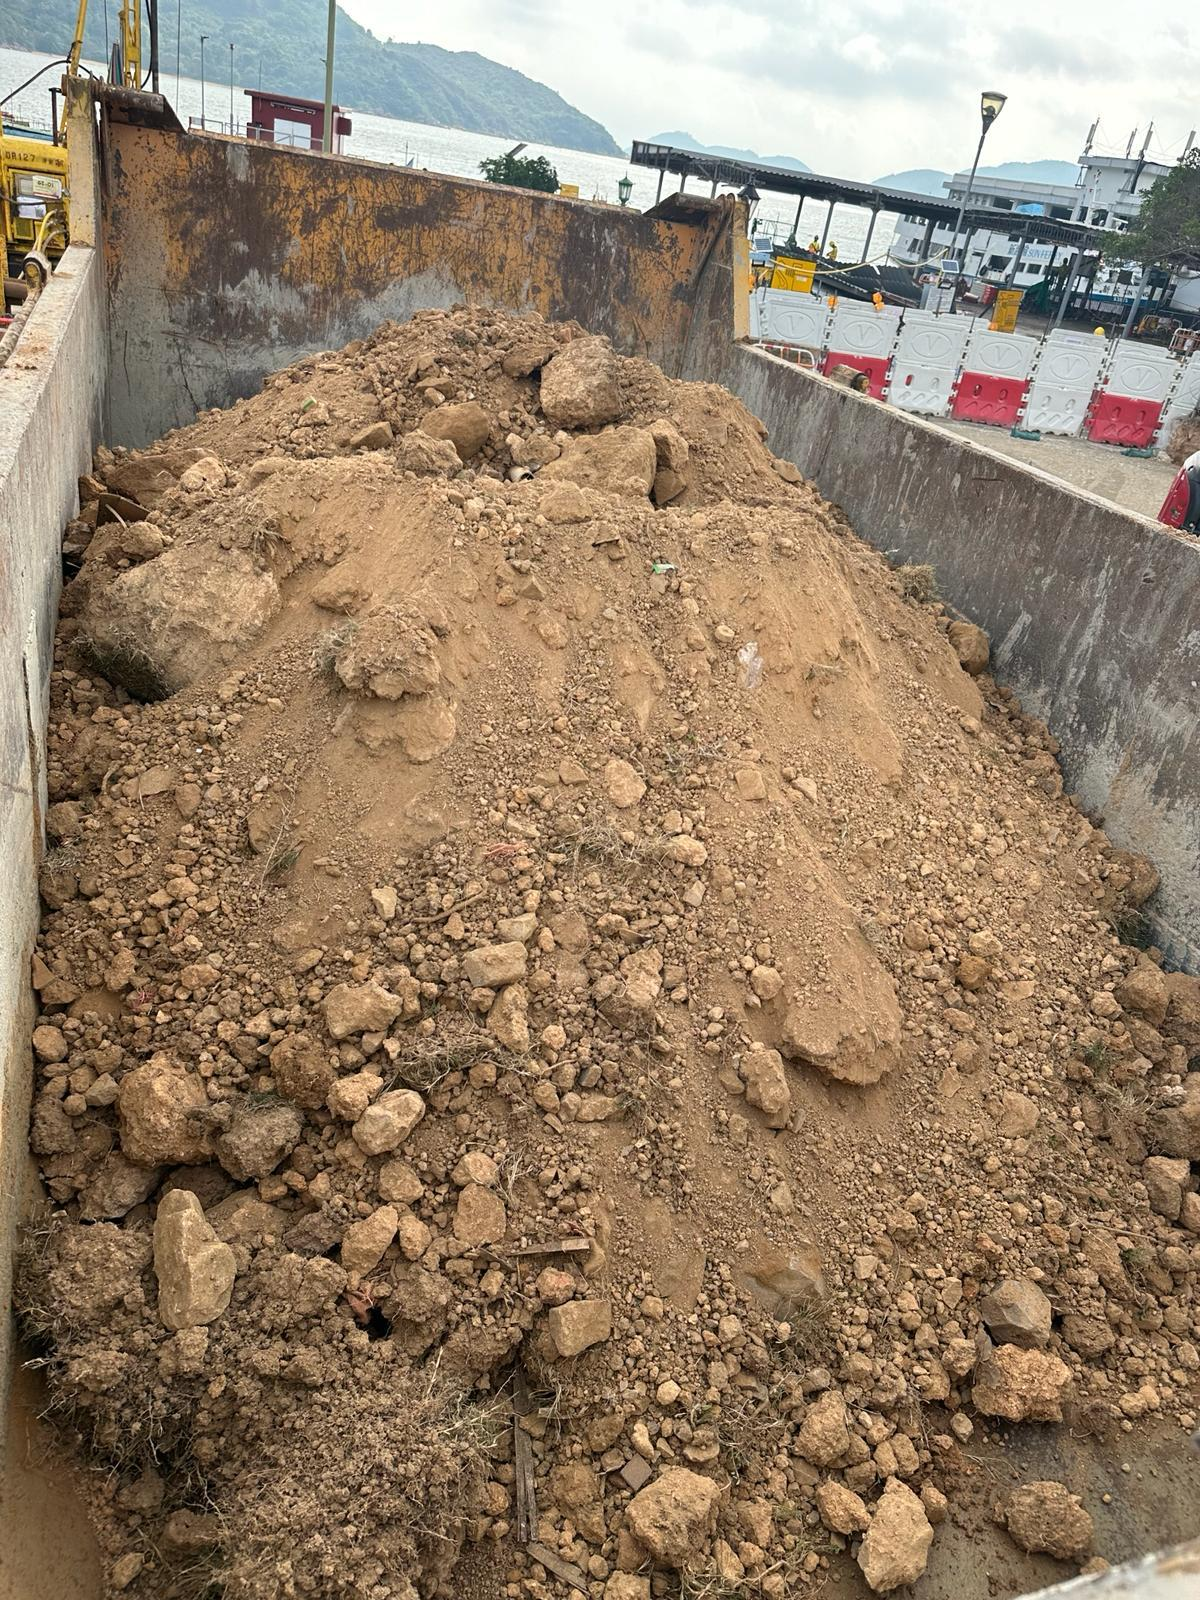dry: (38, 310, 1190, 1511)
